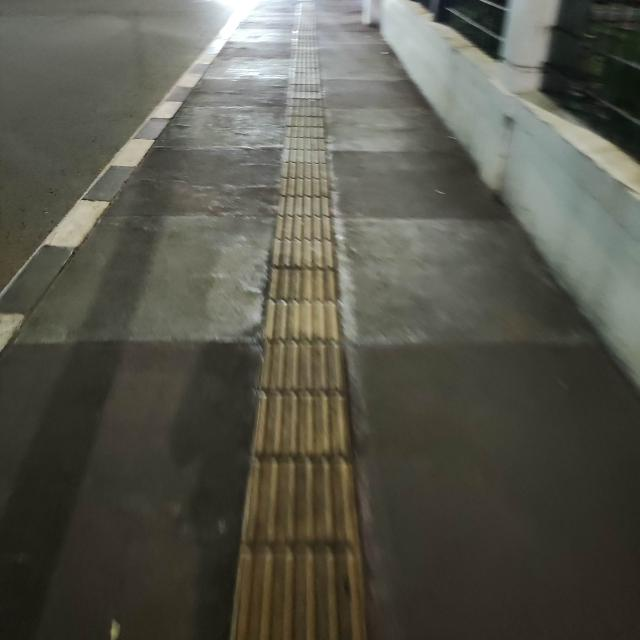lurus: (238, 48, 357, 640)
